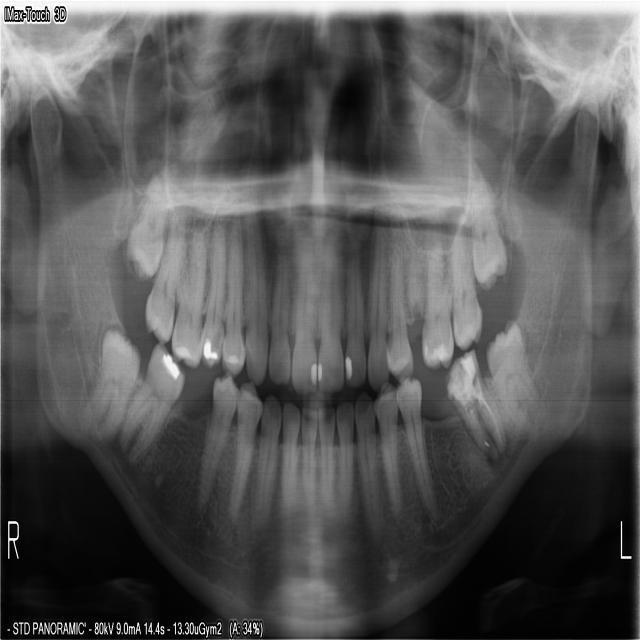LCD: (353, 389, 384, 542)
LCU: (366, 224, 389, 392)
LID: (316, 403, 335, 513), (335, 398, 353, 511)
LIU: (316, 232, 343, 394), (343, 232, 365, 390)
LMD: (443, 346, 506, 464), (483, 315, 541, 432)
LMU: (418, 236, 454, 373), (447, 231, 485, 351), (470, 196, 507, 295)
LPMD: (398, 375, 441, 525), (375, 381, 402, 525)
LPMU: (388, 239, 414, 385)
RCD: (252, 390, 279, 529)
RCU: (243, 221, 267, 387)
RID: (278, 400, 298, 512), (299, 402, 315, 515)
RIU: (289, 236, 316, 396), (266, 250, 289, 388)
RMD: (116, 343, 185, 466), (79, 321, 140, 443)
RMU: (142, 207, 186, 348), (169, 219, 206, 371), (122, 164, 167, 283)
RPMD: (195, 372, 234, 518), (226, 378, 259, 527)
RPMU: (196, 214, 225, 371), (219, 221, 242, 378)
